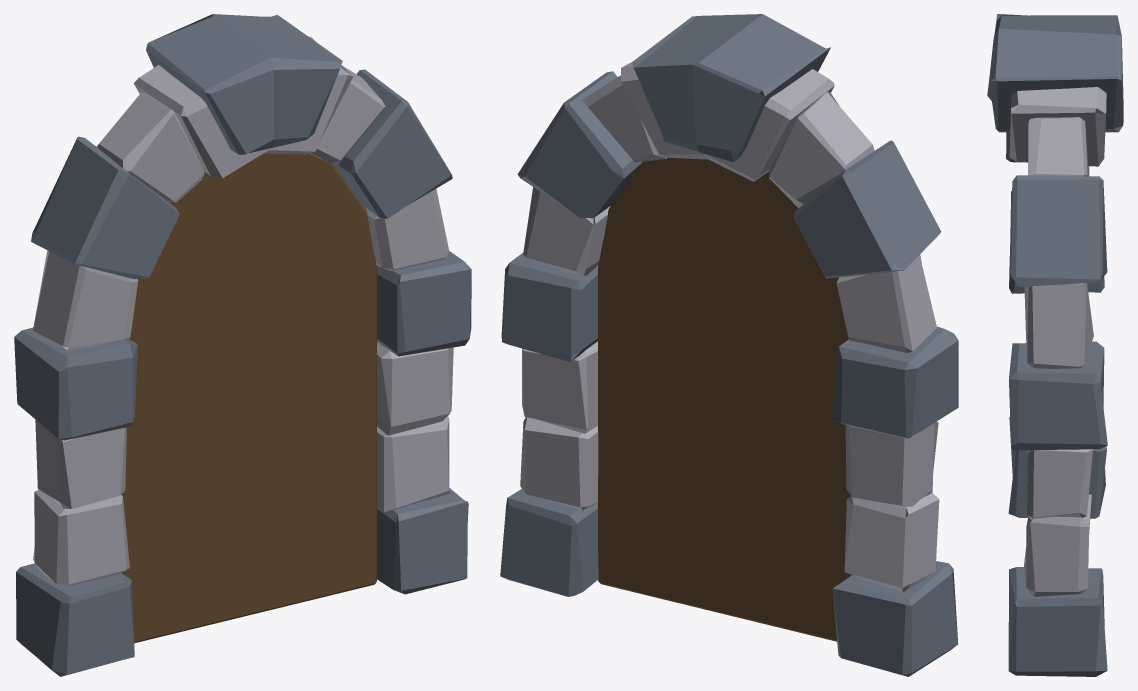
Rendered from SmallDoor.fbx.
3 renders of one model, left to right at view 1: azimuth 30°, elevation 25°; view 2: azimuth 150°, elevation 25°; view 3: azimuth 270°, elevation 25°, orthographic. The views are drawn at different scales.
Parts seen in each view (by area): view 1: SmallDoor, DoorArchSupports, DoorArch; view 2: SmallDoor, DoorArchSupports, DoorArch; view 3: DoorArchSupports, DoorArch.
Boxes of the visible parts, <box> form: SmallDoor: <box>121,153,376,643</box>; DoorArchSupports: <box>14,14,471,676</box>; DoorArch: <box>33,36,453,586</box>; SmallDoor: <box>598,157,851,641</box>; DoorArchSupports: <box>500,14,958,676</box>; DoorArch: <box>520,61,939,591</box>; DoorArchSupports: <box>987,14,1123,676</box>; DoorArch: <box>1009,87,1106,596</box>.
Bounding box in the file's own units: 564 × 747 × 167.
